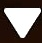dialog_hint_inverted: (3, 6, 42, 39)
